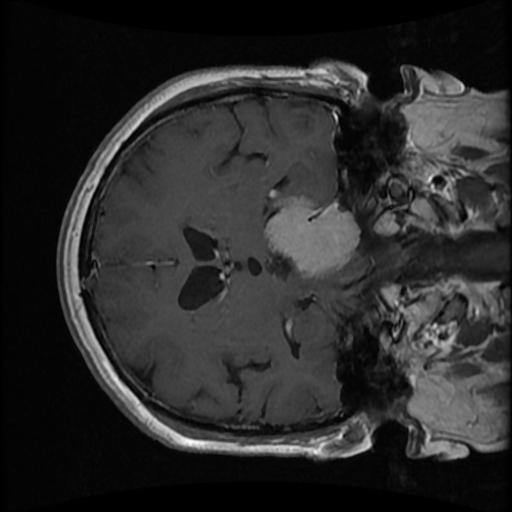meningioma: (263, 197, 359, 278)
